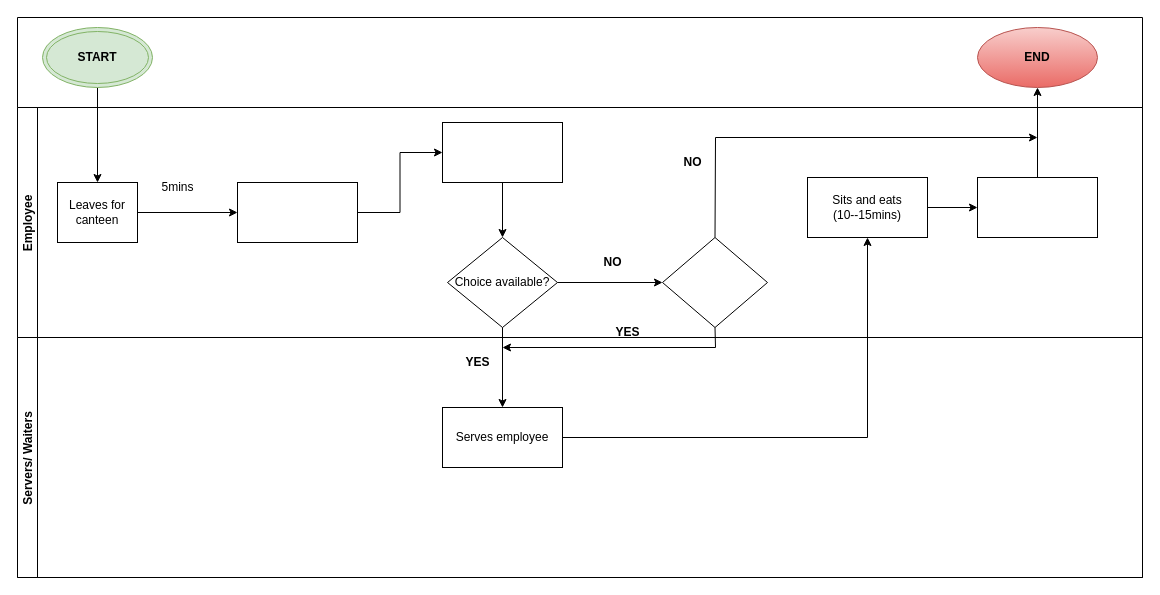
Image size: 1160x595. Some labels were removed from this diagram. The shapes that lost their labels are listed below. From the top down, each one's centre as x and y in pixels, then its label:
the point at 502,152: Joins Queue (35mins)
the point at 297,212: Arrives at the canteen to eat
the point at 1037,207: Leaves canteen for office (5mins)
the point at 715,282: Choose alternative?
